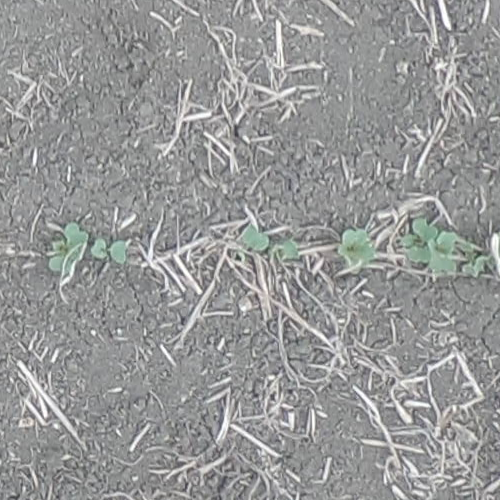clumped: (402, 217, 457, 274)
isolated: (48, 221, 88, 271), (337, 229, 375, 262), (460, 239, 490, 276), (91, 238, 127, 265), (244, 226, 270, 251), (284, 240, 300, 258), (498, 217, 499, 267)
